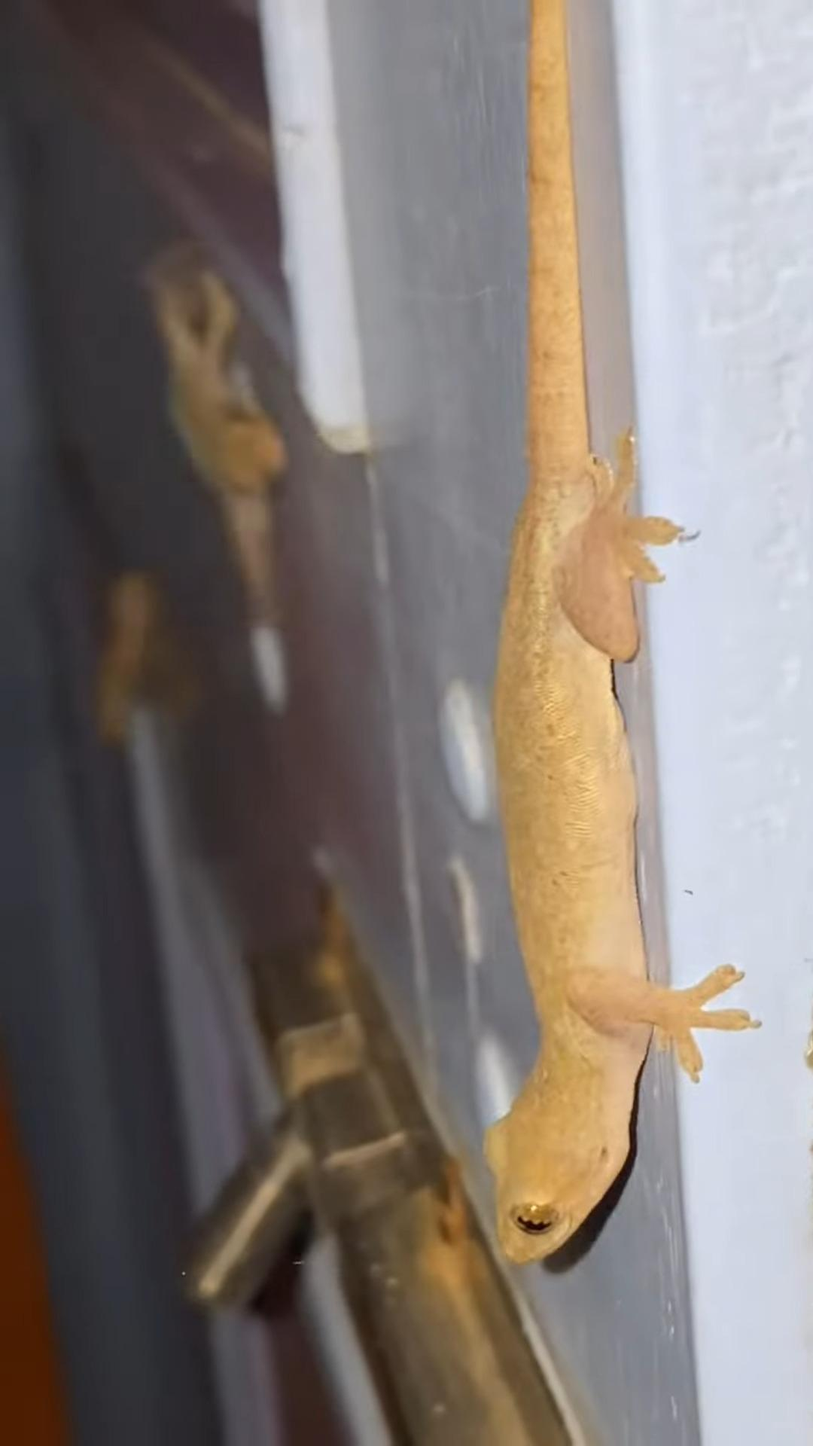lizard: (445, 1, 758, 1274)
